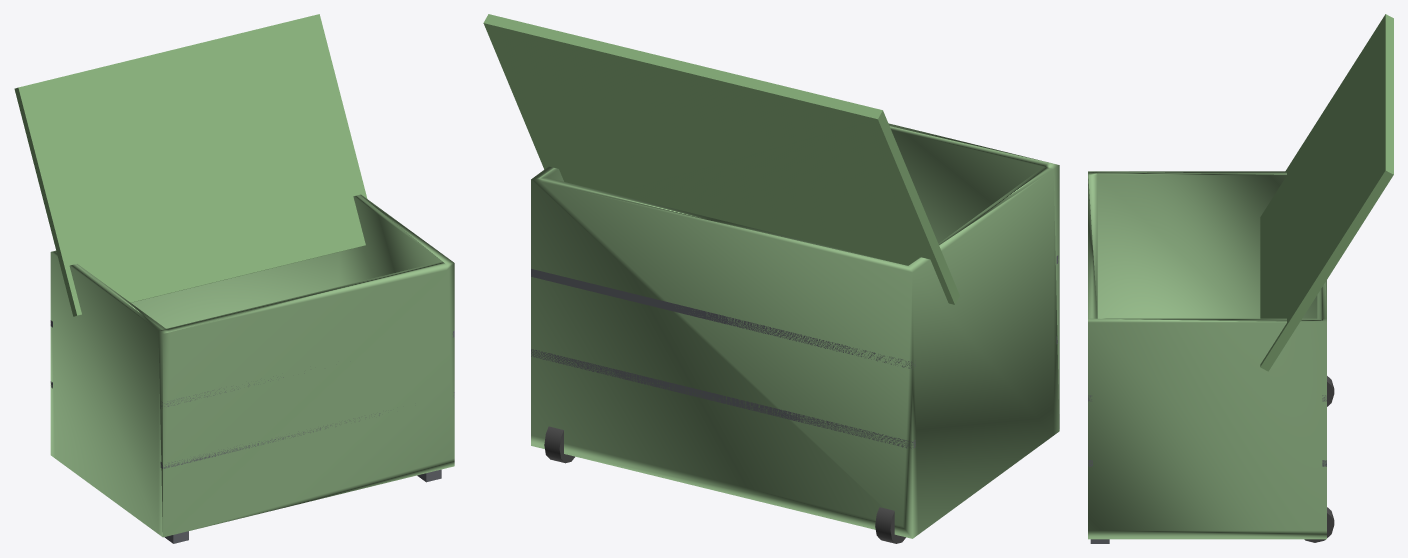
The model's file is dumpster.glb.
3 renders of one model, left to right at view 1: azimuth 30°, elevation 25°; view 2: azimuth 150°, elevation 25°; view 3: azimuth 270°, elevation 25°, orthographic. The views are drawn at different scales.
Parts seen in each view (by area): view 1: merged_dumpster_green, lid; view 2: merged_dumpster_green, lid, rib_back_2, rib_back, wheel_l, wheel_r; view 3: merged_dumpster_green, lid.
Boxes of the visible parts, box(x1,y1,x2,y2) form: merged_dumpster_green: box(50, 194, 454, 537); lid: box(14, 14, 367, 316); merged_dumpster_green: box(531, 123, 1059, 538); lid: box(483, 14, 959, 304); rib_back_2: box(531, 349, 915, 448); rib_back: box(531, 269, 915, 369); wheel_l: box(875, 507, 905, 543); wheel_r: box(544, 426, 574, 463); merged_dumpster_green: box(1088, 171, 1326, 539); lid: box(1260, 14, 1393, 371).
Size of the model in its own units: 1.55 by 1.76 by 1.28.
